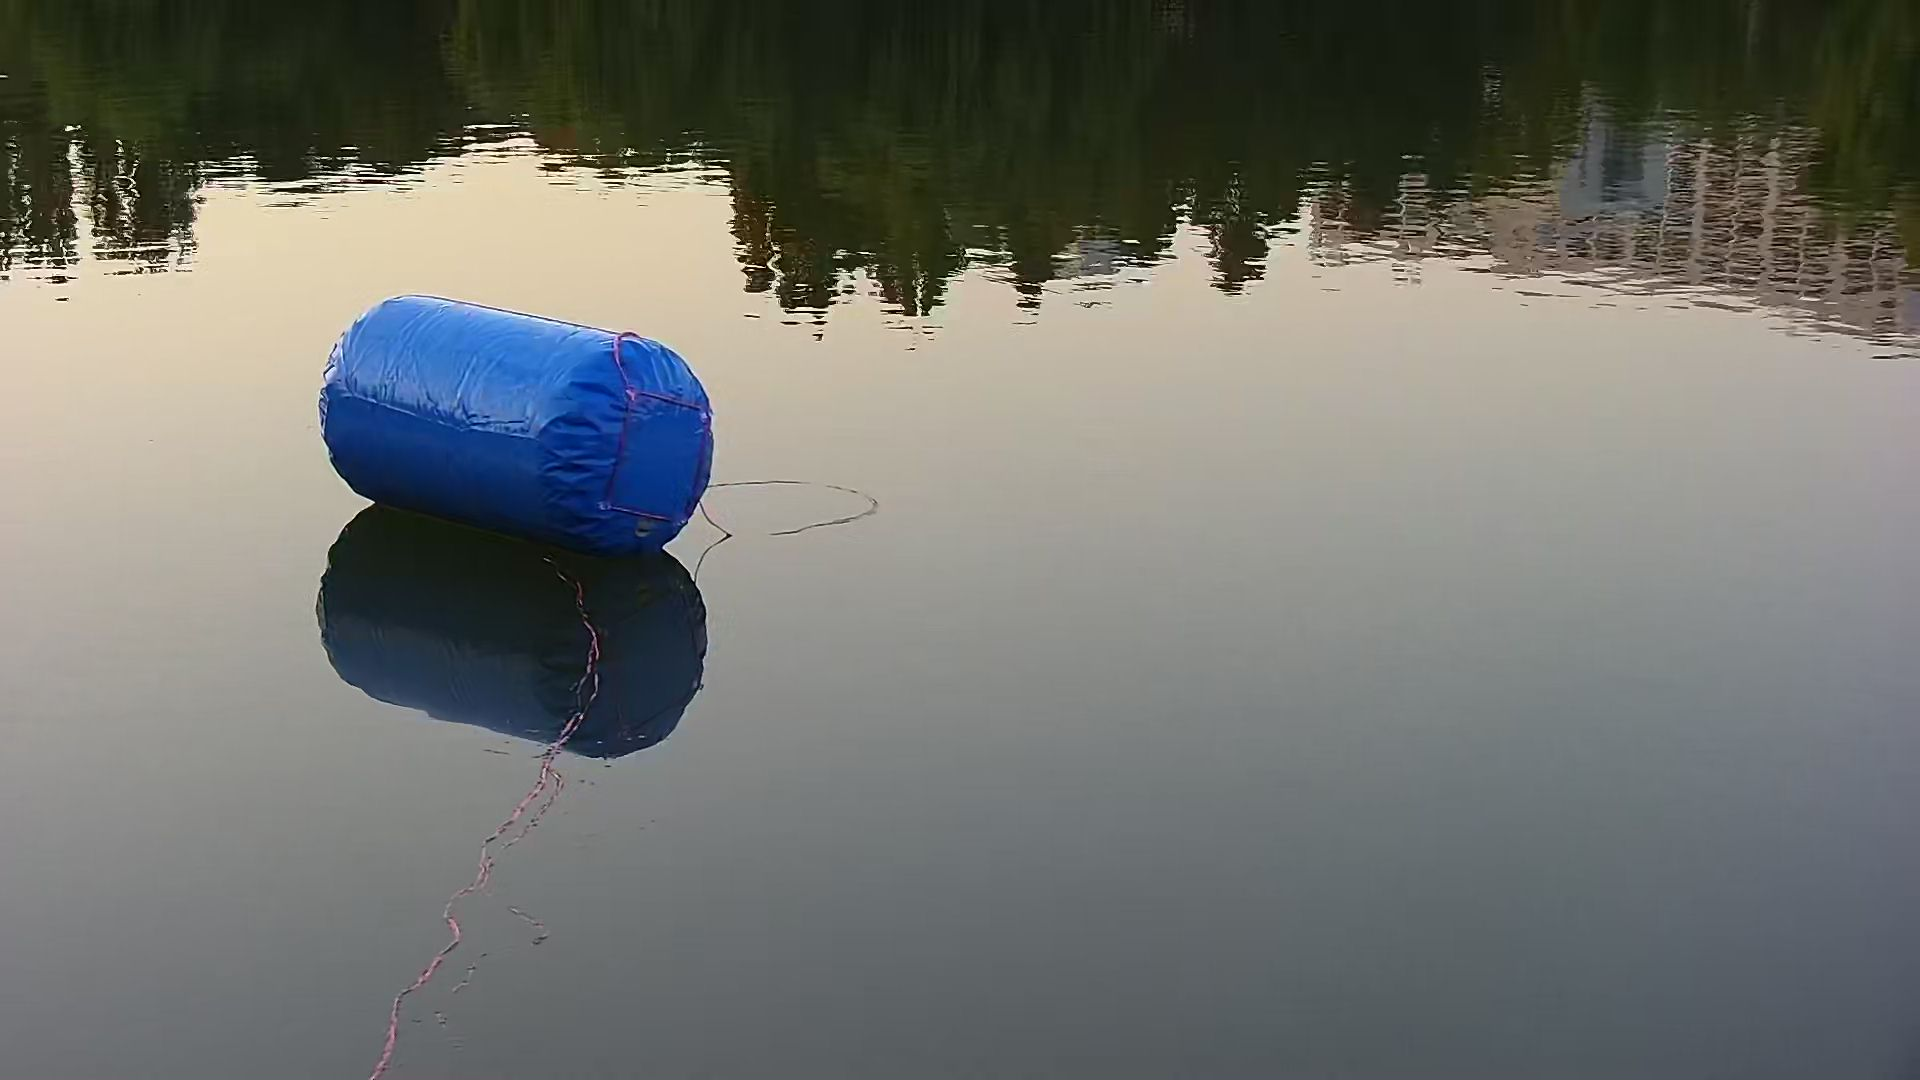rubbish: (306, 277, 719, 580)
